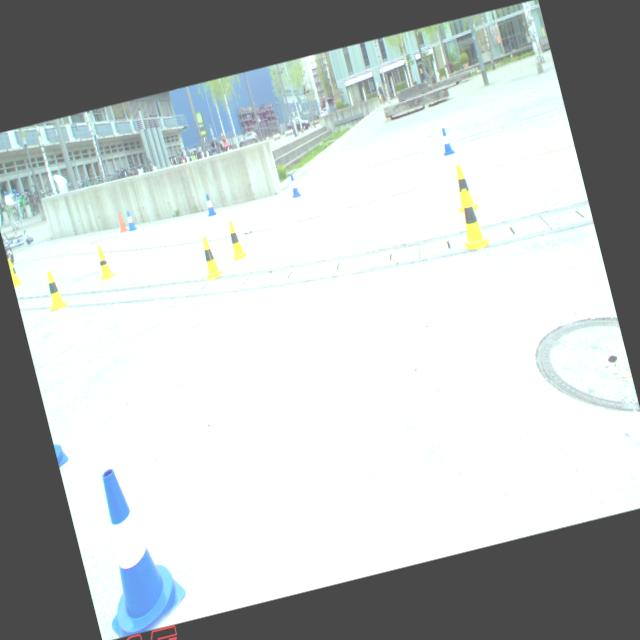blue_cone: (74, 458, 190, 638), (436, 126, 456, 156), (285, 172, 302, 198), (202, 192, 217, 216), (122, 209, 138, 231)
orange_cone: (114, 211, 128, 233)
yellow_cone: (449, 184, 493, 253), (447, 162, 481, 214), (194, 234, 224, 281), (40, 268, 68, 312), (222, 219, 248, 261), (92, 243, 115, 280), (7, 256, 24, 286)
